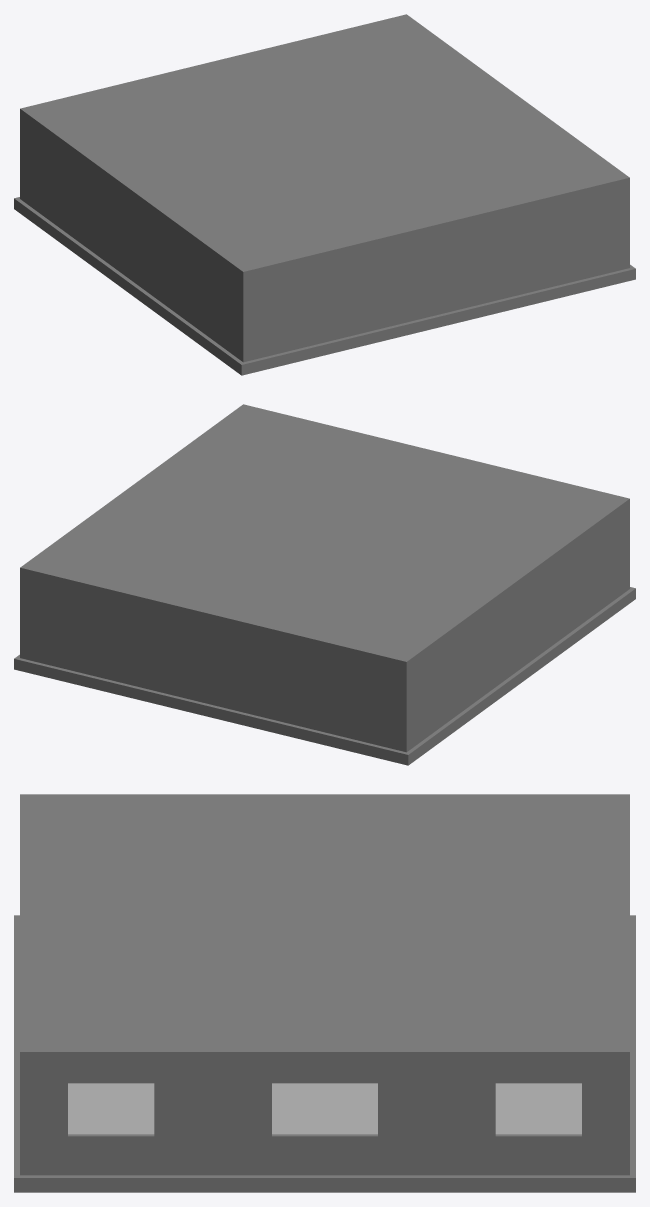
The model's file is Floor1.fbx.
3 views of the same model, one above another, from view 1: azimuth 30°, elevation 25°; view 2: azimuth 150°, elevation 25°; view 3: azimuth 270°, elevation 25° (orthographic). The views are drawn at different scales.
Visible parts, largest first — view 1: House1_floor; view 2: House1_floor; view 3: House1_floor.
Boxes of the visible parts, x1,y1,x2,y2 form: House1_floor: (14, 14, 635, 375); House1_floor: (14, 404, 635, 765); House1_floor: (14, 794, 635, 1192).
Bounding box in the file's own units: 12.24 × 12.24 × 3.
1 material, 1 textured.
